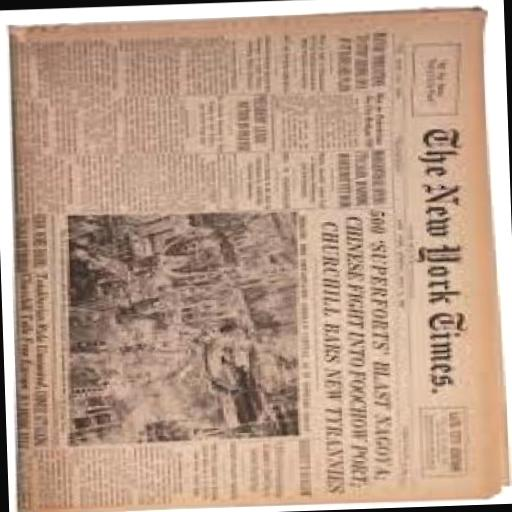paper: (5, 3, 507, 512)
